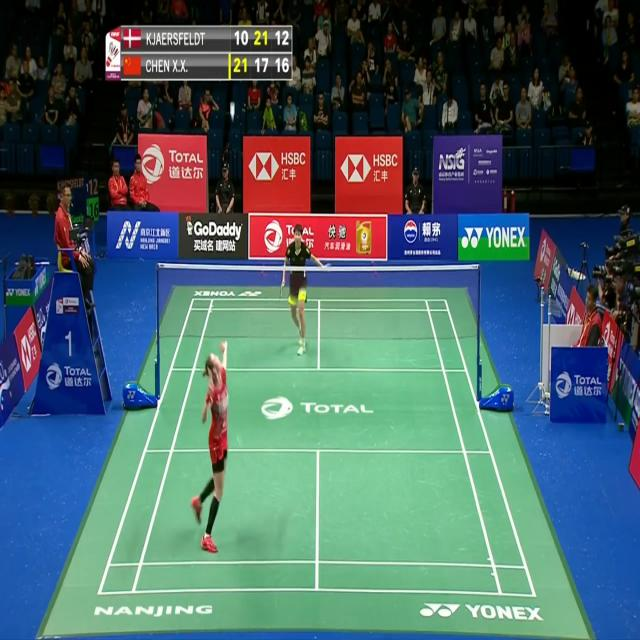Player1: (187, 336, 241, 554)
Player2: (278, 214, 324, 363)
